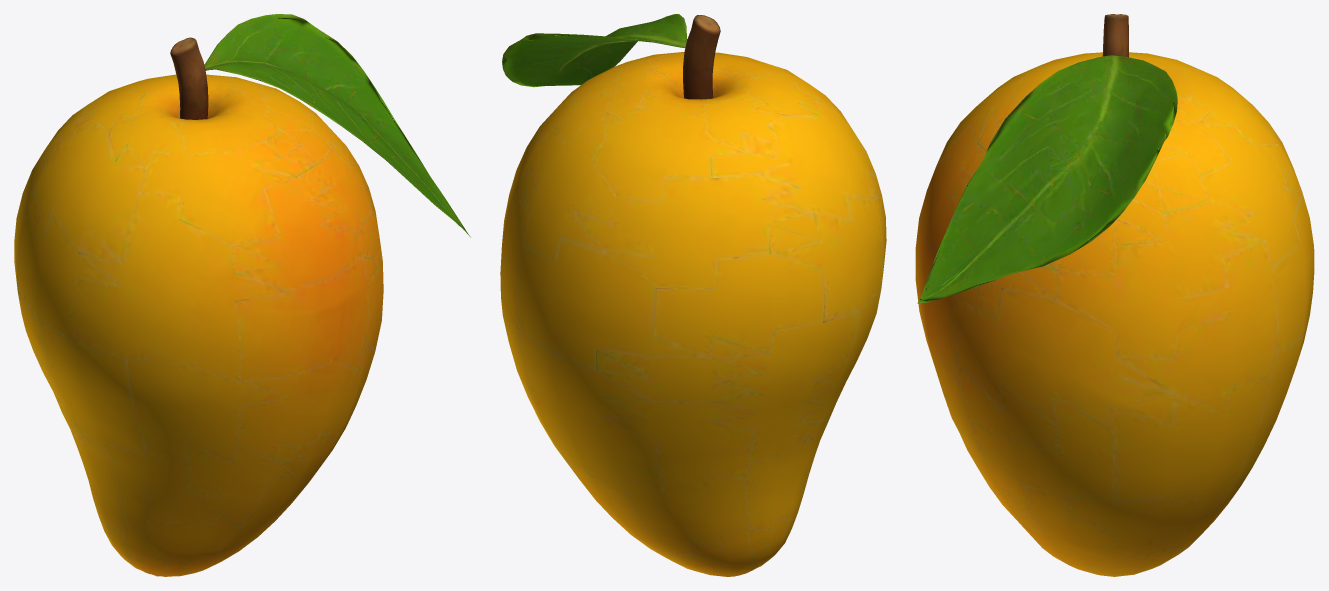
Rendered from mango.glb.
The picture shows the model from 3 angles, left to right: view 1: azimuth 30°, elevation 25°; view 2: azimuth 150°, elevation 25°; view 3: azimuth 270°, elevation 25°; orthographic projection. The views are drawn at different scales.
Parts seen in each view (by area): view 1: geometry_0; view 2: geometry_0; view 3: geometry_0.
Part boxes in pixels (x1,y1,x2,y2): geometry_0: [14, 14, 470, 576]; geometry_0: [500, 14, 886, 576]; geometry_0: [915, 14, 1314, 576].
Size of the model in its own units: 0.6921 by 0.9991 by 0.6397.
1 material, 1 textured.
